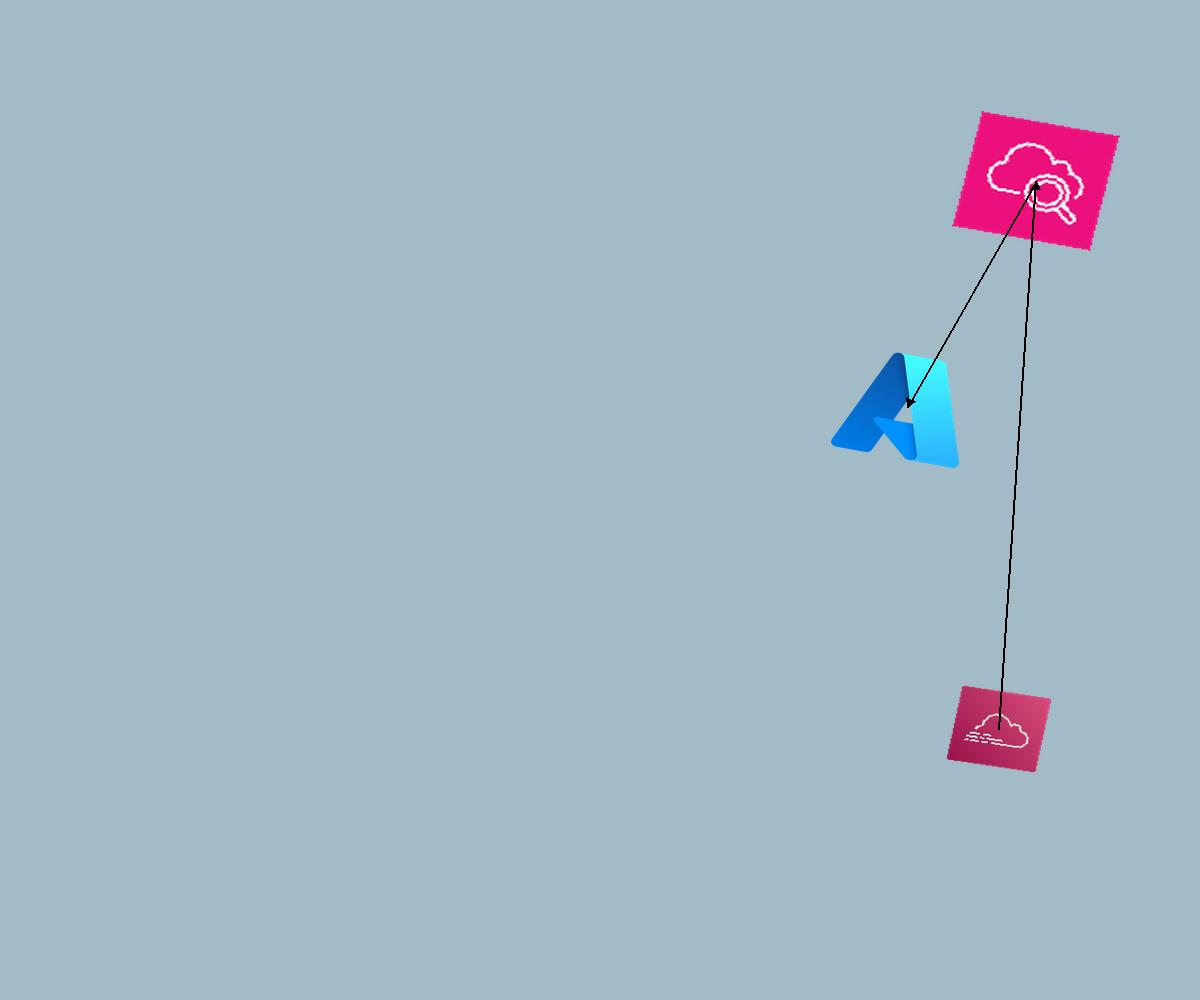AWS-CloudTrail: (946, 685, 1052, 773)
AWS-CloudWatch: (952, 111, 1120, 251)
Azure_services: (822, 336, 992, 478)
